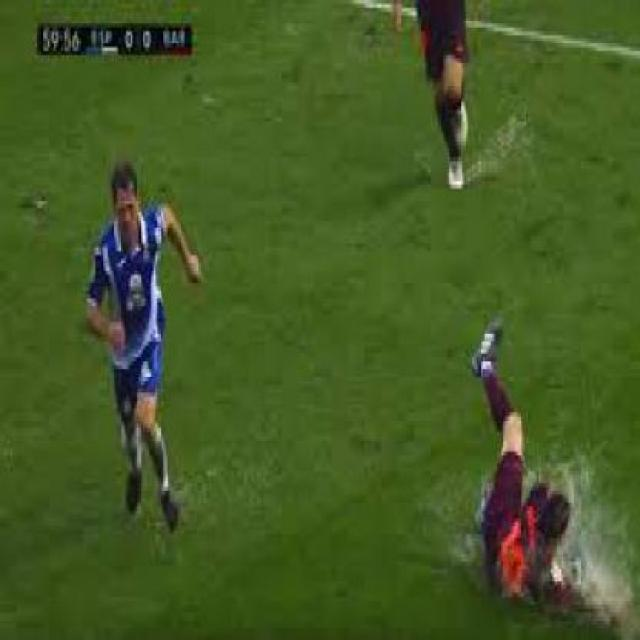fall: (454, 287, 598, 624)
